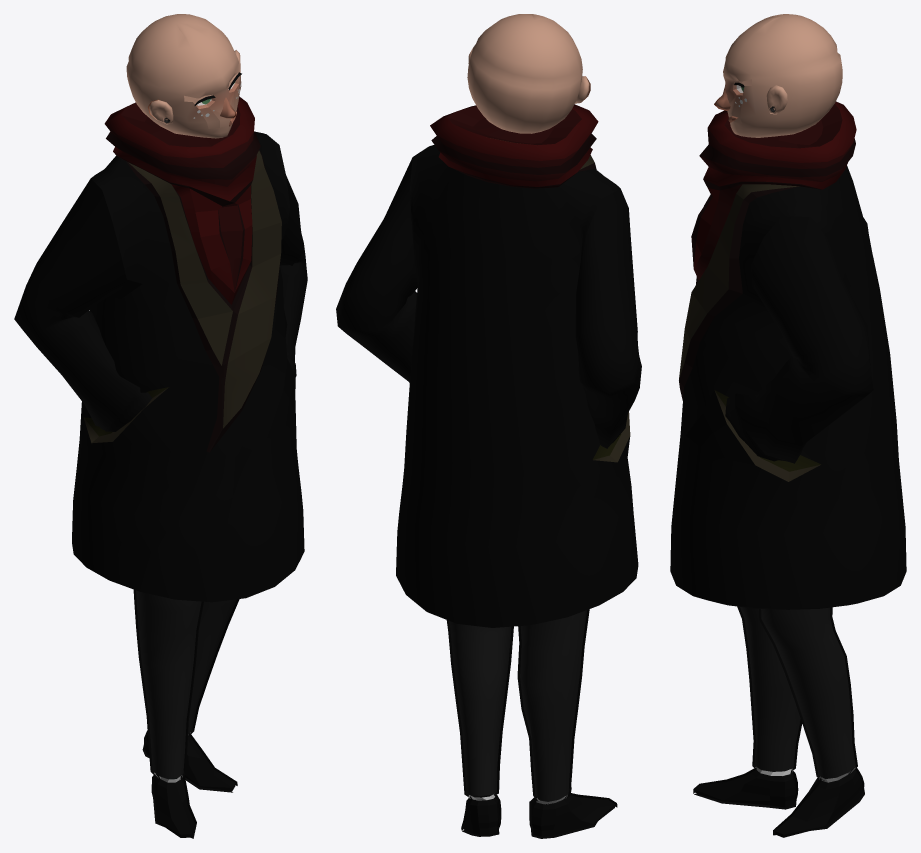
Rendered from Louise_Low-Poly_Art.glb.
The picture shows the model from 3 angles, left to right: view 1: azimuth 30°, elevation 25°; view 2: azimuth 150°, elevation 25°; view 3: azimuth 270°, elevation 25°; orthographic projection. The views are drawn at different scales.
Parts seen in each view (by area): view 1: Coat001__0, Legs__0, head__0, Legs001__0; view 2: Coat001__0, Legs__0, head__0, Legs001__0; view 3: Coat001__0, Legs__0, head__0, Legs001__0, ears__0.
Part boxes in pixels (x1,y1,x2,y2): Coat001__0: (14,96,307,602); Legs__0: (136,590,236,837); head__0: (126,14,241,138); Legs001__0: (133,589,239,838); Coat001__0: (336,104,641,627); Legs__0: (449,610,614,836); head__0: (467,14,582,133); Legs001__0: (446,609,617,838); Coat001__0: (670,101,906,609); Legs__0: (695,607,862,837); head__0: (723,14,842,137); Legs001__0: (693,606,864,835); ears__0: (766,85,787,114).
Bounding box in the file's own units: 55.86 × 146 × 39.41.
